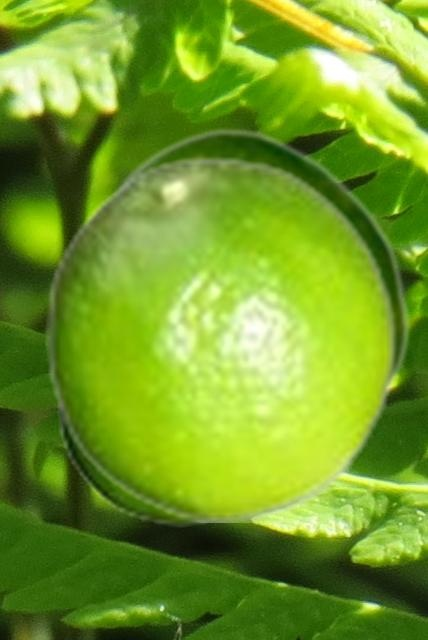calamansi: (45, 154, 398, 521), (107, 126, 411, 402), (56, 410, 227, 526)
